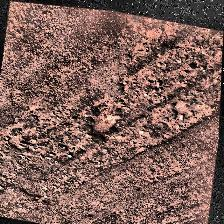pothole: (76, 96, 132, 146)
